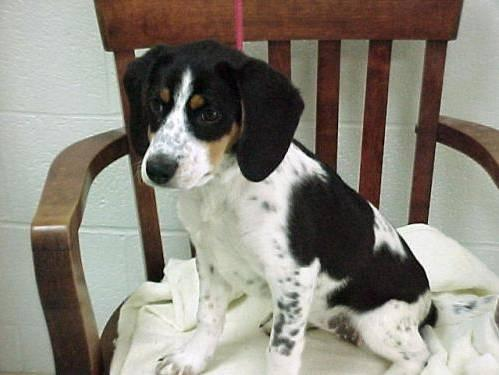dog: (125, 40, 432, 374)
